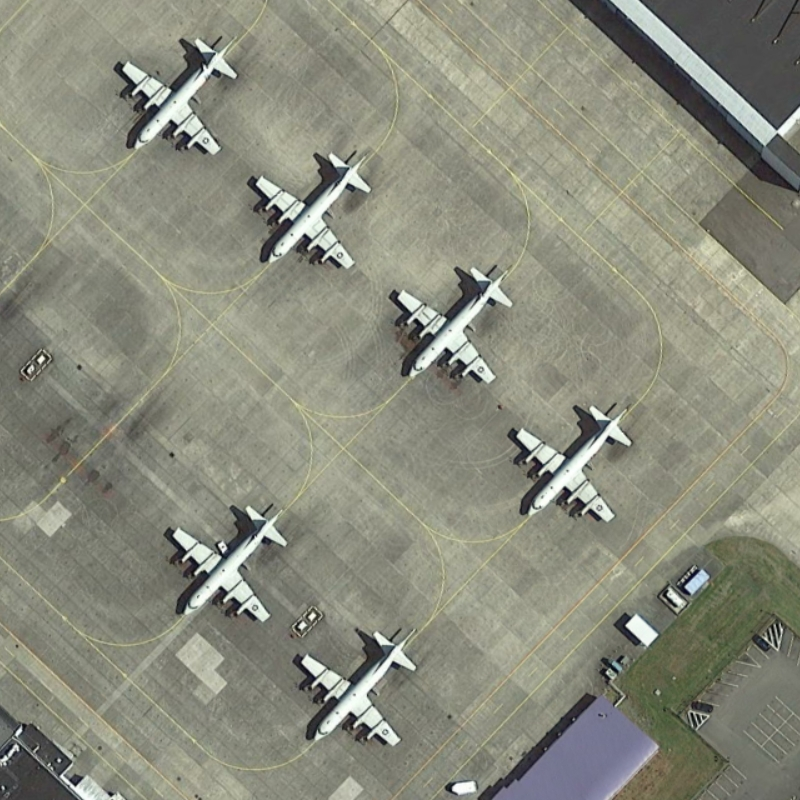A9: (158, 494, 291, 627), (389, 260, 520, 388), (292, 626, 424, 752), (113, 32, 241, 159), (248, 146, 373, 273), (508, 402, 634, 525)
